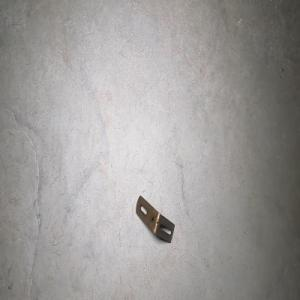MetalPart: (135, 194, 175, 243)
